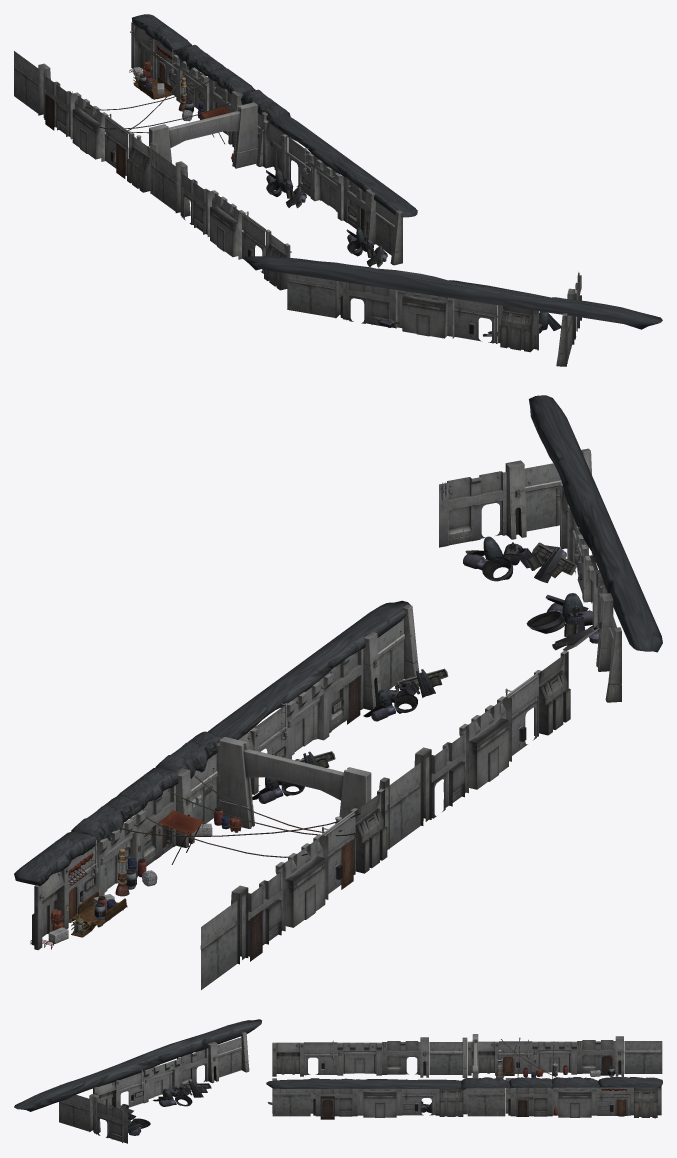
The model's file is env_nev_city_night_01_pre.glb.
3 renders of one model, top to bottom at view 1: azimuth 30°, elevation 25°; view 2: azimuth 150°, elevation 25°; view 3: azimuth 270°, elevation 25°, orthographic. The views are drawn at different scales.
Parts seen in each view (by area): view 1: nev_lava_roof_01b_mesh (3), nev_wall_02_mesh (×4), nev_wall_06_mesh (×4), nev_wall_01_mesh (×4), nev_arch_02_mesh, nev_wall_04_mesh (×4), nev_wall_03_mesh (×3), nev_lava_roof_01b_mesh (2), nev_wall_02_mesh (1), nev_wall_03_mesh (1), nev_wall_06_mesh (1), nev_wall_01_mesh (1) (+9 smaller); view 2: nev_wall_02_mesh (×4), nev_lava_roof_01b_mesh (3), nev_wall_01_mesh (×4), nev_wall_03_mesh (×4), nev_wall_06_mesh (×3), nev_arch_02_mesh, nev_lava_roof_01b_mesh (2), nev_wall_04_mesh (×4), nev_wall_01_mesh (2), tat_scrappile_03_mesh (3), tat_scrappile_03_mesh (2), nev_wall_03_mesh (2) (+13 smaller); view 3: nev_wall_02_mesh (×4), nev_wall_03_mesh (×4), nev_wall_01_mesh (×4), nev_lava_roof_01b_mesh (3), nev_wall_06_mesh (×4), nev_wall_04_mesh (×4), nev_lava_roof_01b_mesh (2), nev_wall_02_mesh (1), nev_wall_01_mesh (2), nev_wall_03_mesh (2), tat_scrappile_03_mesh (2), nev_wall_03_mesh (1) (+16 smaller).
Boxes of the visible parts, x1,y1,x2,y2 form: nev_lava_roof_01b_mesh (3): [243, 256, 662, 329]; nev_wall_02_mesh (×4): [70, 55, 343, 259]; nev_wall_06_mesh (×4): [127, 22, 291, 290]; nev_wall_01_mesh (×4): [43, 73, 365, 234]; nev_arch_02_mesh: [149, 102, 257, 168]; nev_wall_04_mesh (×4): [105, 40, 310, 273]; nev_wall_03_mesh (×3): [14, 51, 395, 255]; nev_lava_roof_01b_mesh (2): [268, 115, 417, 217]; nev_wall_02_mesh (1): [395, 290, 454, 338]; nev_wall_03_mesh (1): [287, 273, 335, 317]; nev_wall_06_mesh (1): [497, 305, 538, 352]; nev_wall_01_mesh (1): [342, 282, 395, 327]; nev_wall_02_mesh (×4): [95, 673, 511, 931]; nev_lava_roof_01b_mesh (3): [529, 395, 662, 652]; nev_wall_01_mesh (×4): [142, 649, 465, 959]; nev_wall_03_mesh (×4): [190, 618, 420, 989]; nev_wall_06_mesh (×3): [32, 650, 570, 950]; nev_arch_02_mesh: [219, 737, 371, 828]; nev_lava_roof_01b_mesh (2): [208, 600, 410, 739]; nev_wall_04_mesh (×4): [68, 672, 538, 906]; nev_wall_01_mesh (2): [439, 471, 506, 547]; tat_scrappile_03_mesh (3): [463, 536, 577, 583]; tat_scrappile_03_mesh (2): [526, 593, 599, 650]; nev_wall_03_mesh (2): [524, 463, 574, 531]; nev_wall_02_mesh (×4): [337, 1041, 597, 1117]; nev_wall_03_mesh (×4): [272, 1041, 662, 1116]; nev_wall_01_mesh (×4): [315, 1040, 615, 1116]; nev_lava_roof_01b_mesh (3): [14, 1019, 261, 1111]; nev_wall_06_mesh (×4): [272, 1041, 661, 1117]; nev_wall_04_mesh (×4): [304, 1039, 630, 1115]; nev_lava_roof_01b_mesh (2): [266, 1078, 465, 1089]; nev_wall_02_mesh (1): [143, 1058, 180, 1103]; nev_wall_01_mesh (2): [94, 1100, 127, 1143]; nev_wall_03_mesh (2): [59, 1094, 89, 1131]; tat_scrappile_03_mesh (2): [153, 1080, 211, 1106]; nev_wall_03_mesh (1): [217, 1037, 241, 1077].
Size of what is drawn, in the model's own units: 31.04 by 7.77 by 94.83.
23 materials, 23 textured.
